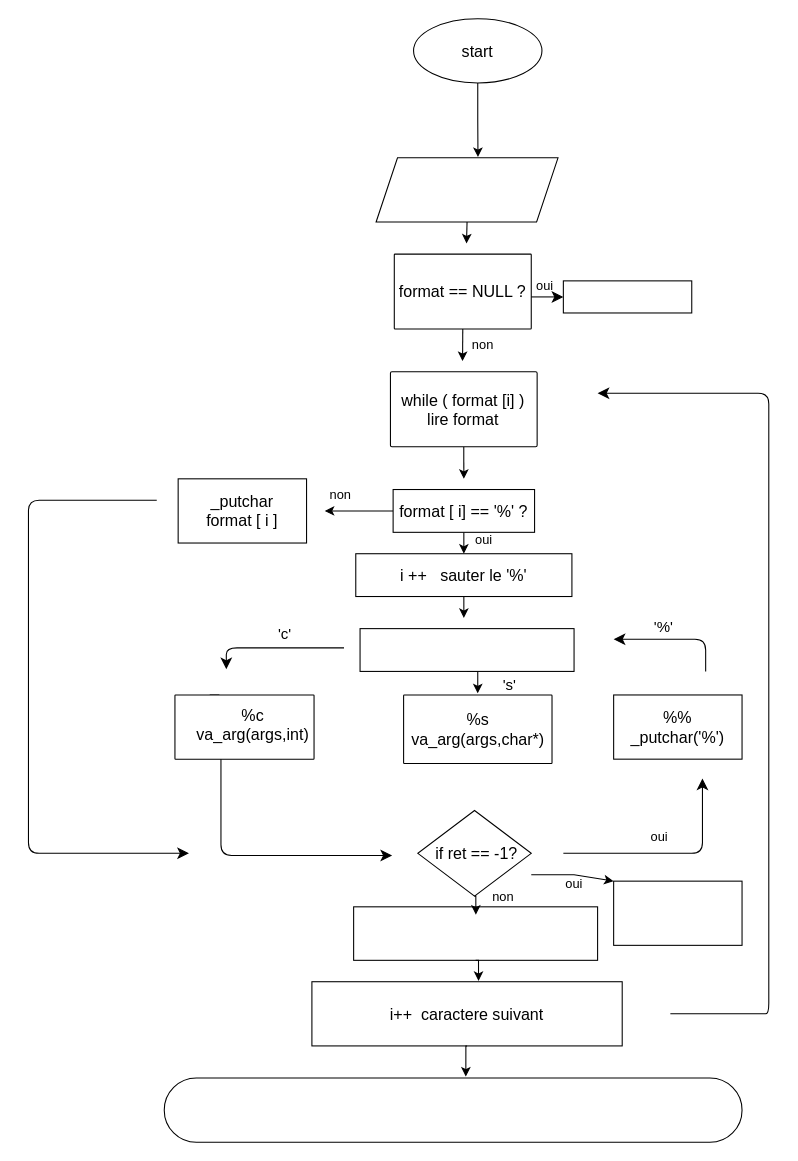
Image size: 798x1161. Some labels were removed from this diagram. Here are the shapes that lost their labels. From the top down, the box of each, then its label:
(375, 157, 558, 222): initialisation va_start,count = 0, i = 0
(562, 280, 692, 313): return -1
(359, 628, 574, 671): choix du specificateur
(613, 880, 742, 945): va_end return -1
(353, 906, 598, 960): count += nb _chars ecrits
(163, 1077, 742, 1142): fin: '\0' atteint va_end -> return count
